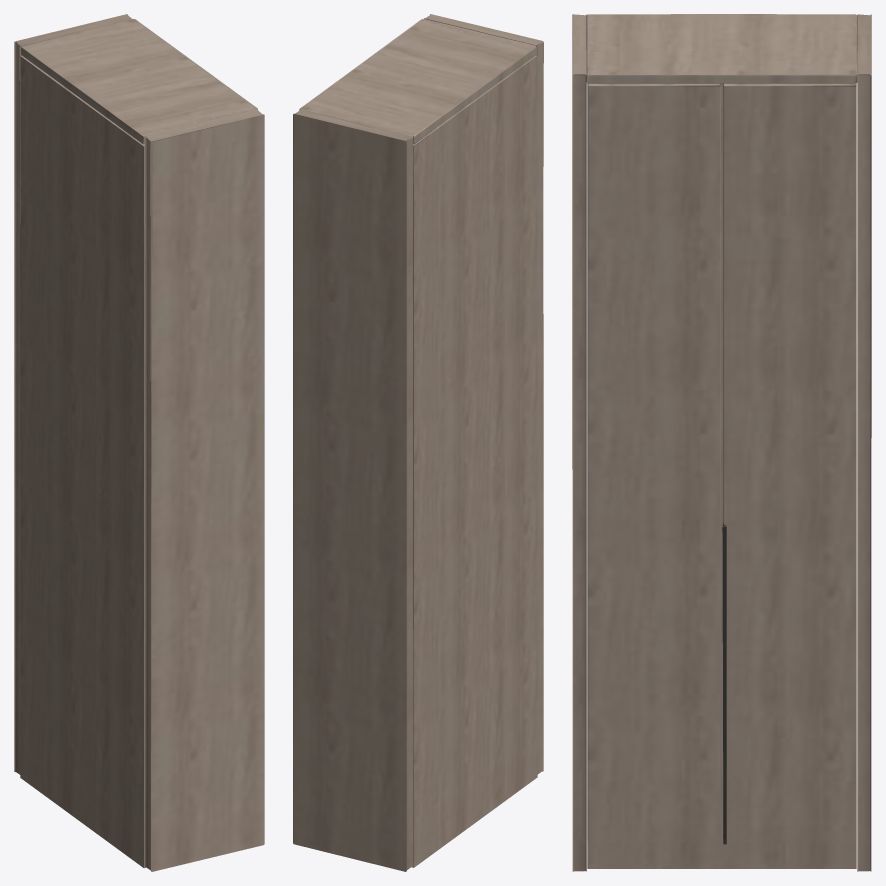
Rendered from Cupboard0017.obj.
3 renders of one model, left to right at view 1: azimuth 30°, elevation 25°; view 2: azimuth 150°, elevation 25°; view 3: azimuth 270°, elevation 25°, orthographic. The views are drawn at different scales.
Size of the model in its own units: 0.31 by 1.83 by 0.622.
Materials: 1 (1 with a texture image).
